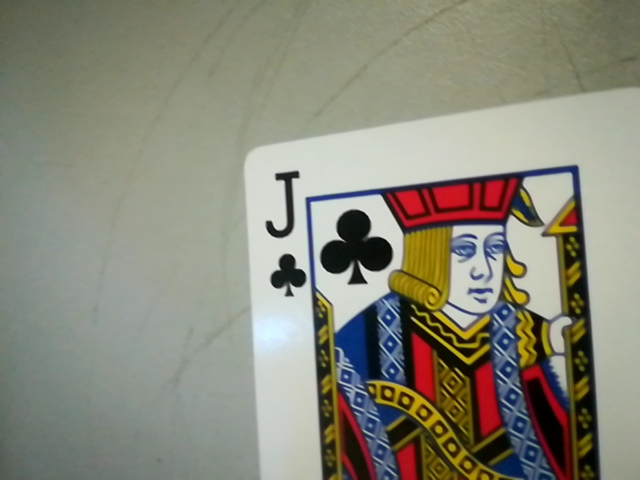mh j: (257, 158, 313, 302)
